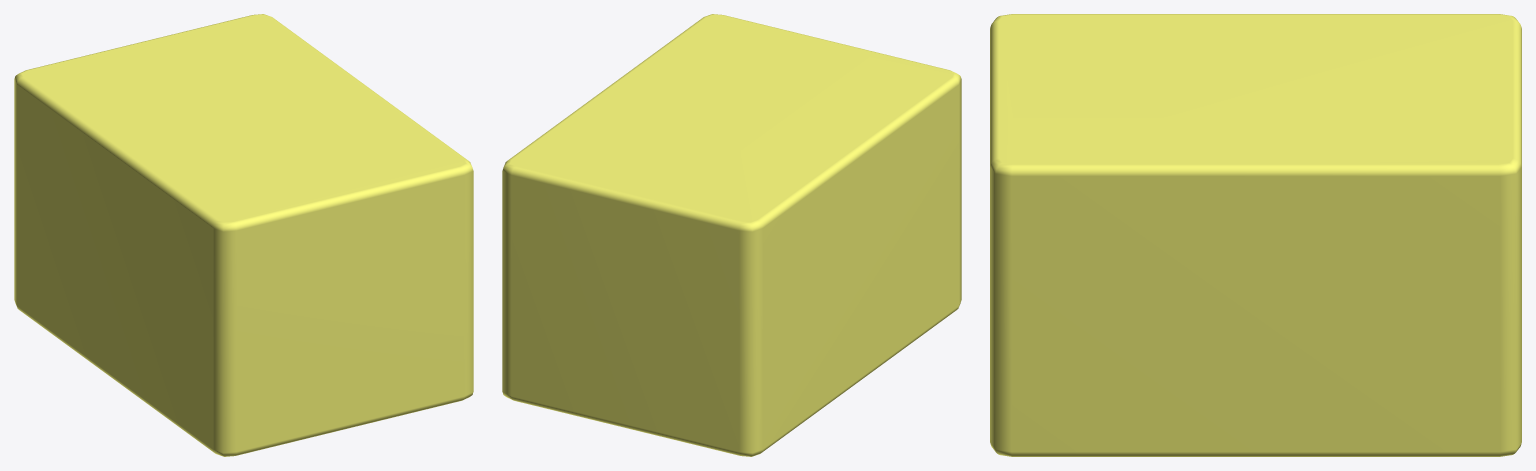
File: SM_SofaPieceB01.fbx
3 views of the same model, side by side, from view 1: azimuth 30°, elevation 25°; view 2: azimuth 150°, elevation 25°; view 3: azimuth 270°, elevation 25° (orthographic). The views are drawn at different scales.
Visible parts, largest first — view 1: SM_SofaPieceB01; view 2: SM_SofaPieceB01; view 3: SM_SofaPieceB01.
Boxes of the visible parts, x1,y1,x2,y2 form: SM_SofaPieceB01: (14,14,473,456); SM_SofaPieceB01: (502,14,961,456); SM_SofaPieceB01: (990,14,1521,456).
Bounding box in the file's own units: 0.5213 × 0.4514 × 0.7455.
